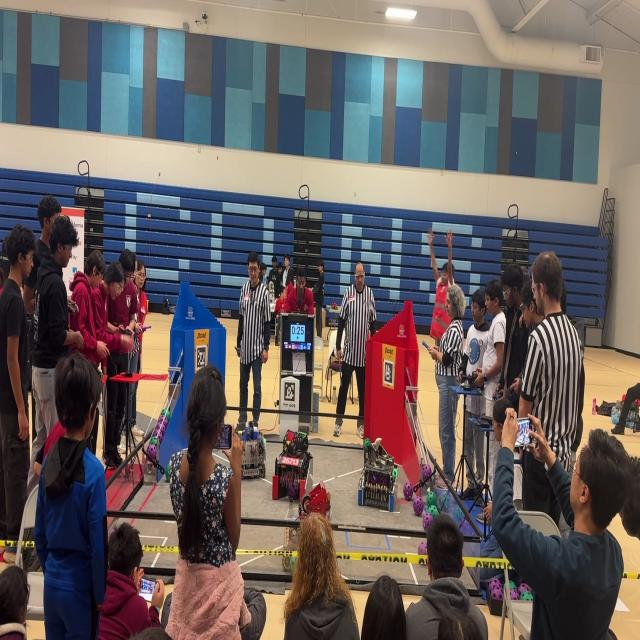artifact_green: (459, 519, 474, 536), (489, 585, 504, 601), (438, 492, 449, 510), (421, 464, 432, 481), (147, 444, 157, 461), (427, 505, 439, 519), (518, 582, 530, 594), (427, 492, 437, 506), (160, 409, 170, 421), (520, 591, 532, 600), (510, 590, 519, 601), (290, 556, 296, 572), (364, 438, 372, 449), (150, 437, 158, 445), (392, 468, 398, 478), (165, 466, 169, 481), (166, 411, 171, 421), (165, 408, 170, 418), (509, 581, 515, 589), (160, 409, 166, 415)
artifact_purple: (459, 520, 474, 536), (437, 492, 449, 511), (518, 582, 531, 597), (403, 482, 413, 501), (413, 496, 423, 515), (490, 586, 503, 600), (288, 483, 299, 499), (453, 506, 464, 522), (423, 513, 433, 530), (426, 491, 437, 506), (489, 578, 501, 591), (147, 445, 157, 460), (418, 540, 427, 556), (422, 464, 431, 480), (159, 416, 167, 431), (520, 591, 533, 600), (152, 421, 159, 436), (428, 507, 438, 517), (510, 589, 519, 600), (158, 416, 167, 427), (157, 430, 163, 445), (159, 426, 165, 440), (158, 432, 163, 446), (162, 415, 168, 426), (509, 581, 515, 589)
